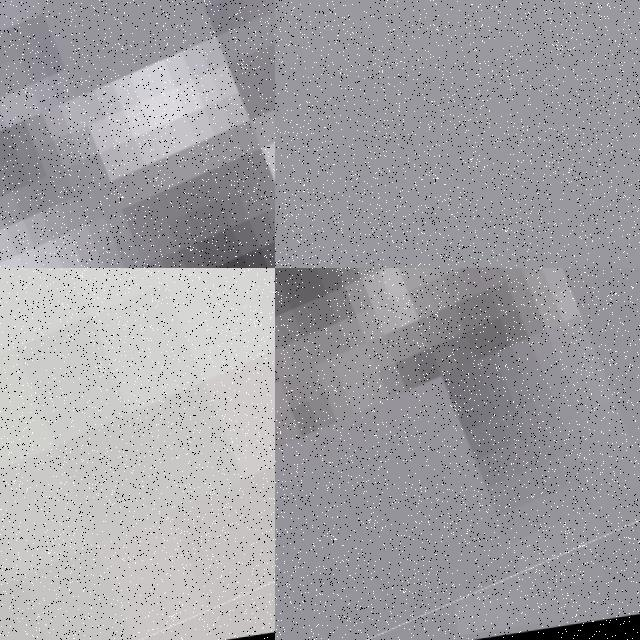drone: (275, 268, 640, 640), (0, 268, 275, 640), (0, 0, 275, 268)
